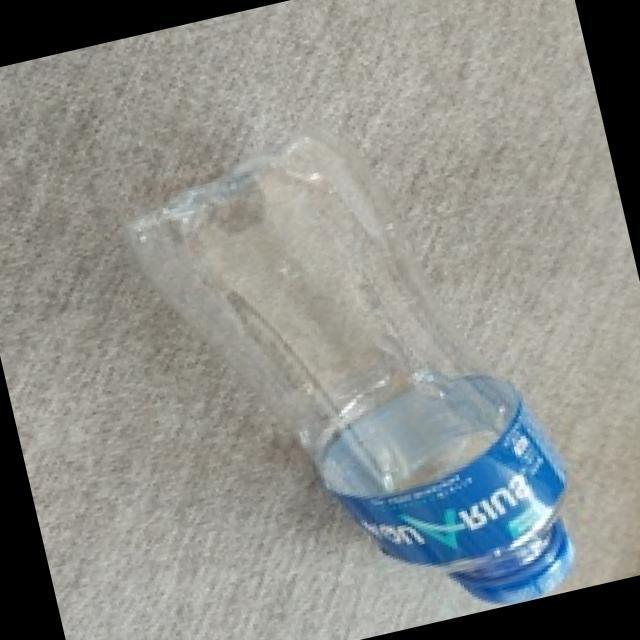good: (109, 87, 605, 640)
